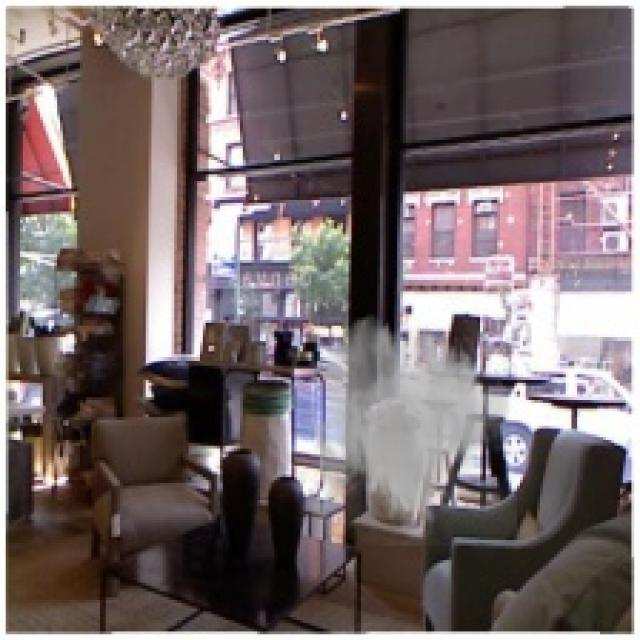smoke: (300, 311, 517, 546)
